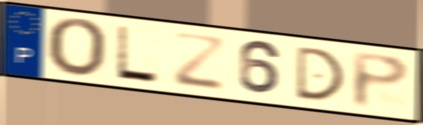6: (237, 38, 282, 98)
D: (293, 44, 347, 102)
L: (114, 23, 162, 86)
O: (45, 16, 110, 80)
P: (349, 50, 413, 111)
Z: (172, 29, 228, 93)
